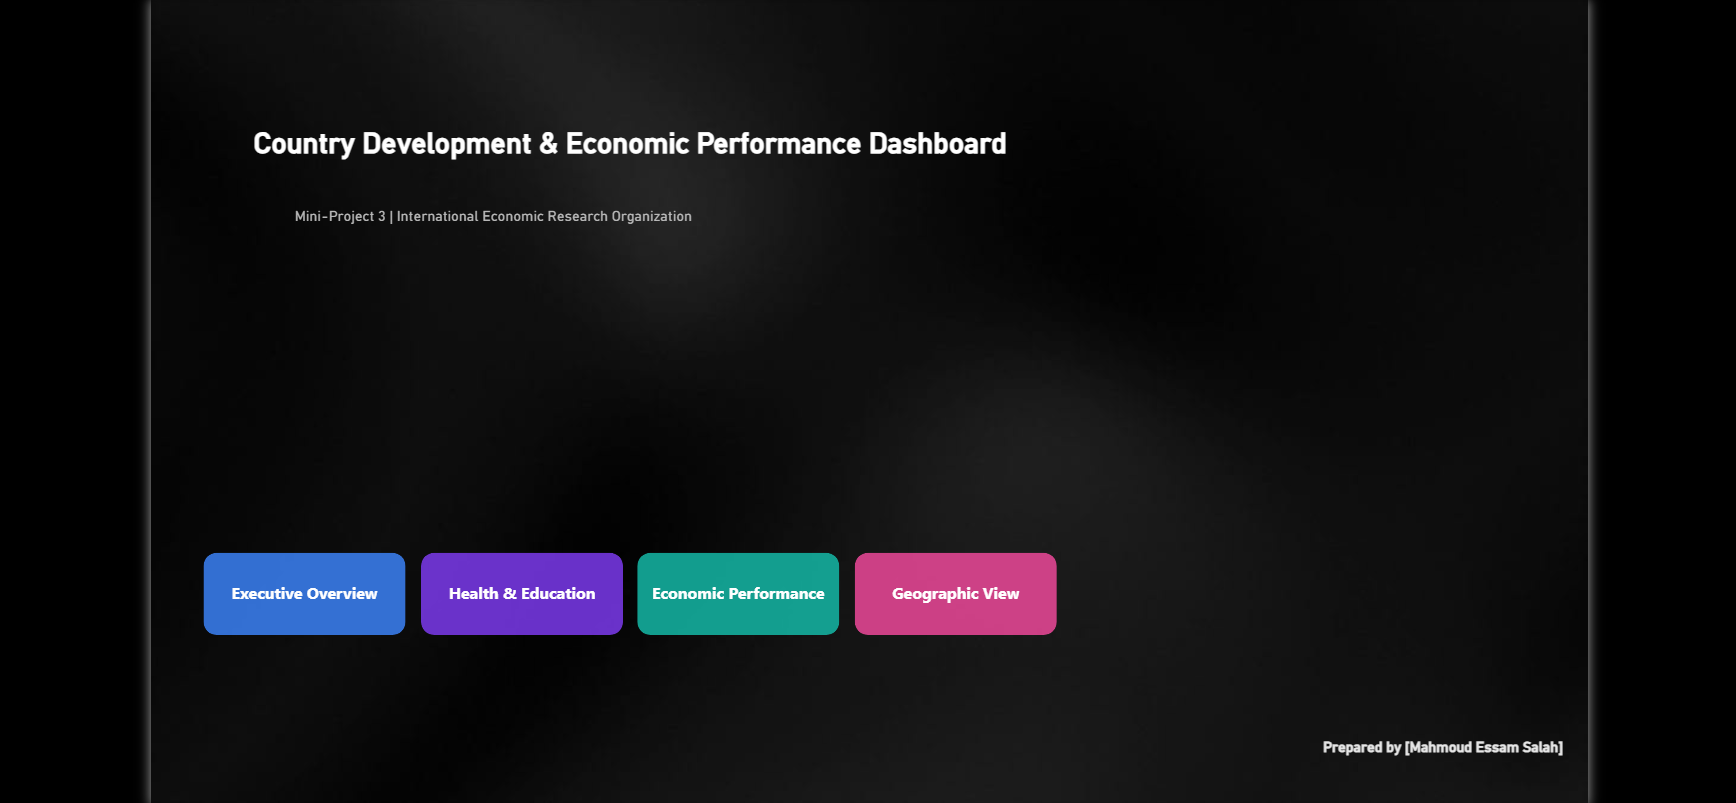

What the dashboard file says about the page in this screenshot:
{"tool":"powerbi","page":{"name":"Home","canvas":[1920,1080],"ordinal":0},"visuals":[{"type":"textbox","box":[70,170,1140,90],"z":0},{"type":"textbox","box":[191.8,260.6,546.5,67],"z":1000},{"type":"actionButton","box":[940,740,270,110],"z":2000},{"type":"actionButton","box":[70,740,270,110],"z":3000},{"type":"actionButton","box":[360,740,270,110],"z":4000},{"type":"actionButton","box":[650,740,270,110],"z":5000},{"type":"textbox","box":[1559.9,988.1,333,43.4],"z":6000}]}

Visuals, with their boxes on the page's 1920x1080 design canvas (x1, y1, x2, y2). These are canvas units, not pixel positions in the 1736x803 screenshot, which may show the page scaled, cropped or inside an application window:
textbox: crop(70, 170, 1210, 260)
textbox: crop(192, 261, 738, 328)
actionButton: crop(940, 740, 1210, 850)
actionButton: crop(70, 740, 340, 850)
actionButton: crop(360, 740, 630, 850)
actionButton: crop(650, 740, 920, 850)
textbox: crop(1560, 988, 1893, 1032)
